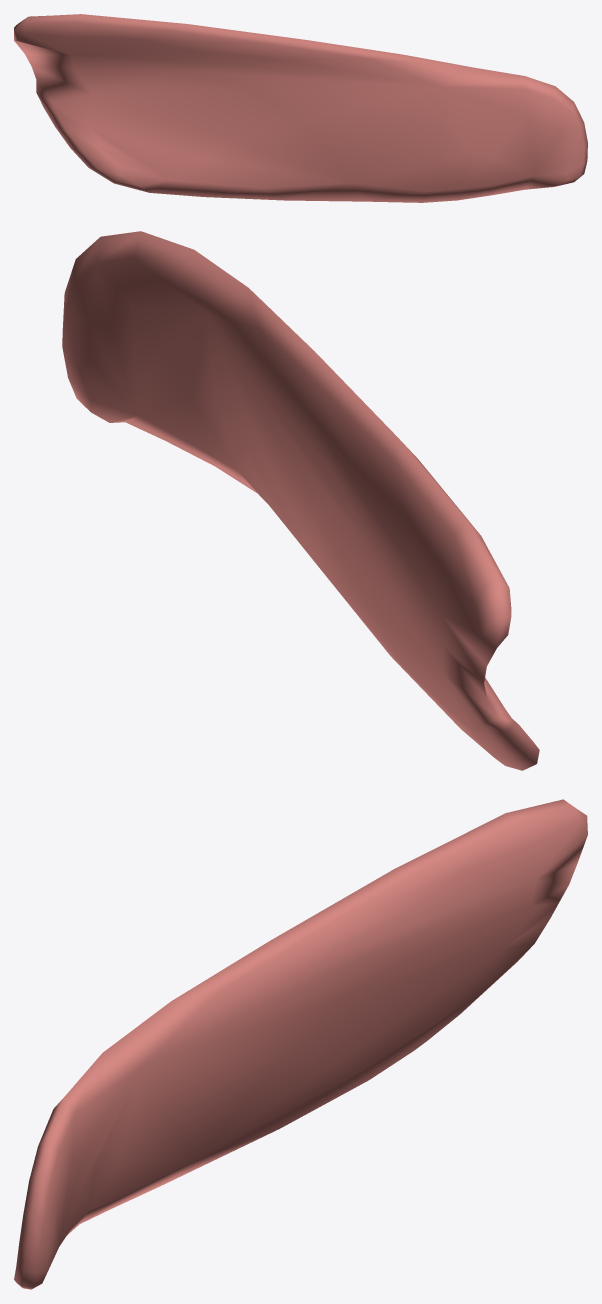
3 views of the same model, one above another, from view 1: azimuth 30°, elevation 25°; view 2: azimuth 150°, elevation 25°; view 3: azimuth 270°, elevation 25° (orthographic). The views are drawn at different scales.
Visible parts, largest first — view 1: ZA_33e8a7fe03c313fd; view 2: ZA_33e8a7fe03c313fd; view 3: ZA_33e8a7fe03c313fd.
Part boxes in pixels (x1,y1,x2,y2): ZA_33e8a7fe03c313fd: [14, 14, 587, 202]; ZA_33e8a7fe03c313fd: [62, 231, 539, 770]; ZA_33e8a7fe03c313fd: [14, 799, 587, 1289].
Size of the model in its own units: 0.0109 by 0.00402 by 0.00866.
